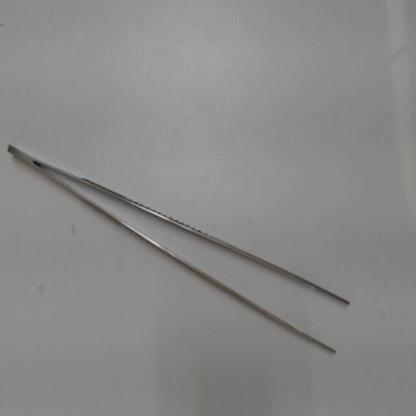DeBakey Dissector: (3, 138, 358, 370)
